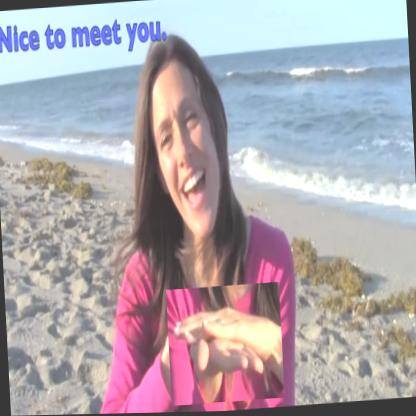NiceToMeetYou: (166, 283, 284, 407)
